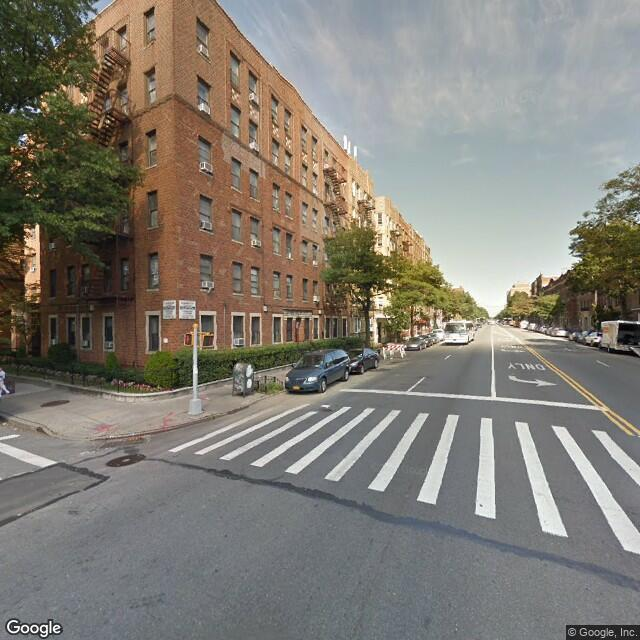litter: (11, 427, 22, 433), (15, 511, 25, 517), (1, 419, 7, 427)
